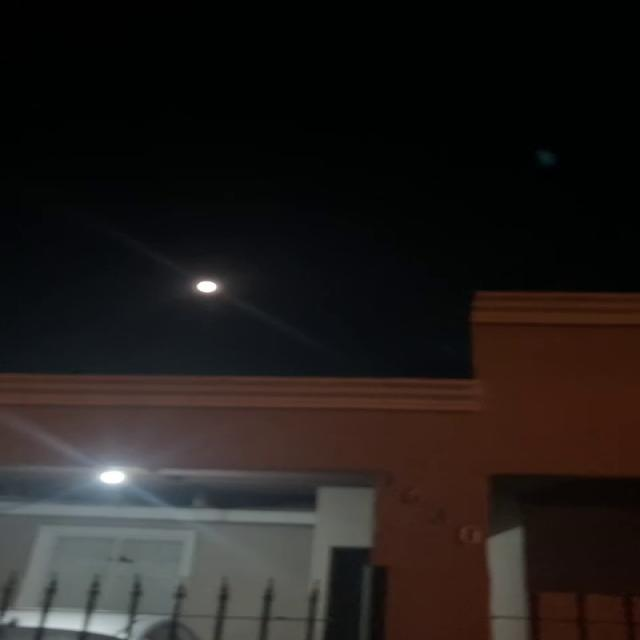moon: (179, 272, 231, 303)
